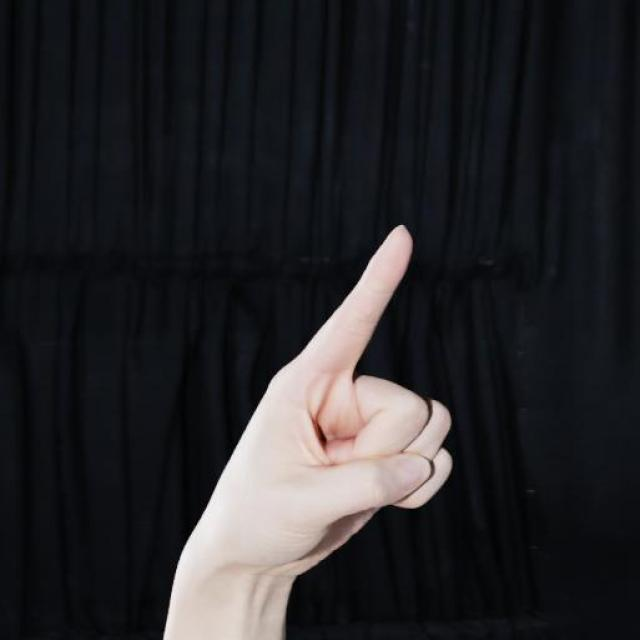Z: (175, 220, 459, 579)
